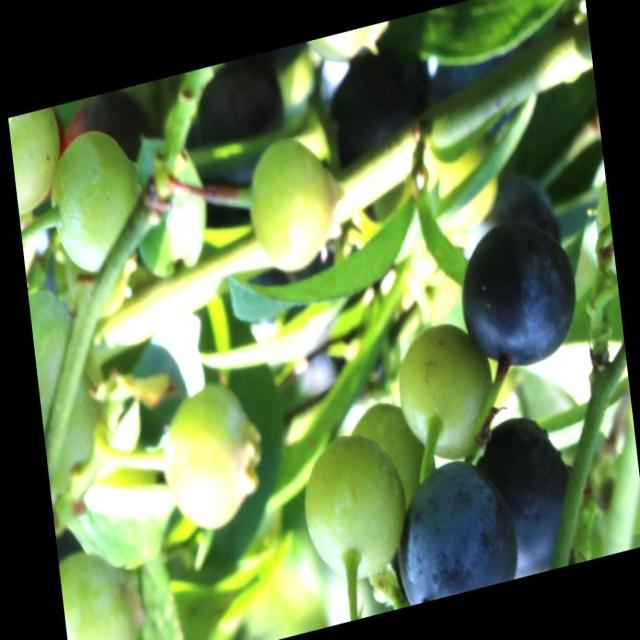blueberry: (450, 210, 586, 378), (388, 448, 523, 605), (486, 402, 581, 579)
blueberry-unripe: (388, 310, 500, 476), (296, 420, 405, 590), (157, 377, 263, 541), (240, 124, 340, 286), (42, 124, 142, 282), (57, 532, 147, 639), (356, 391, 431, 518), (8, 108, 68, 216)
